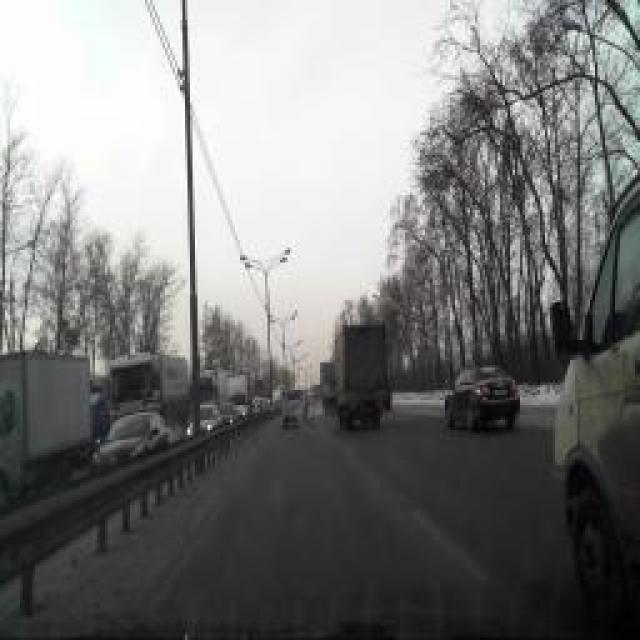sign: (470, 340, 480, 362)
